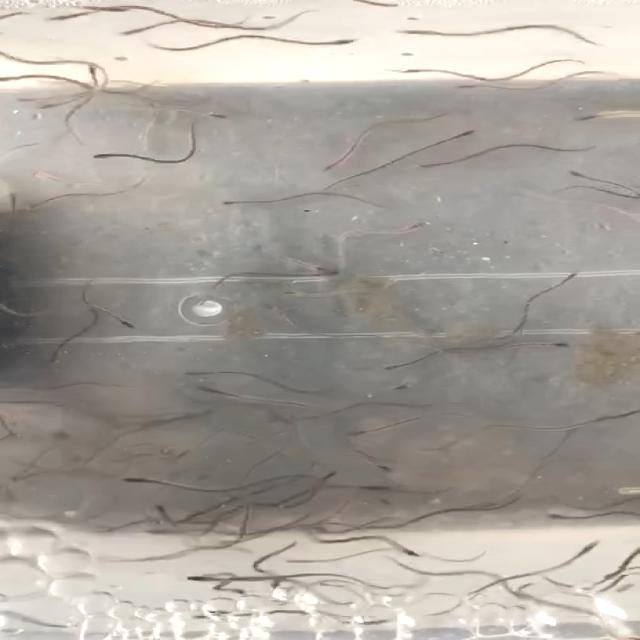active_glass_eel: (570, 107, 618, 125), (528, 337, 582, 351), (572, 534, 606, 556), (392, 220, 430, 237), (445, 128, 487, 142), (50, 8, 86, 24), (114, 472, 152, 487), (114, 25, 154, 39), (188, 106, 228, 120), (314, 36, 360, 48), (365, 460, 403, 474), (80, 63, 104, 85), (387, 542, 419, 558), (292, 258, 328, 272), (542, 512, 586, 523), (318, 158, 348, 174), (398, 62, 432, 76), (388, 376, 414, 394), (611, 404, 640, 420), (378, 360, 412, 372), (344, 426, 372, 440), (366, 496, 394, 510), (566, 168, 596, 181), (412, 160, 444, 172), (36, 98, 66, 110), (13, 94, 48, 104), (85, 150, 119, 160), (182, 574, 216, 584), (188, 384, 218, 395), (396, 29, 436, 37), (322, 468, 342, 484), (280, 556, 312, 566), (452, 80, 482, 90), (561, 271, 582, 285), (216, 198, 242, 209), (112, 317, 134, 329), (42, 350, 60, 364)
